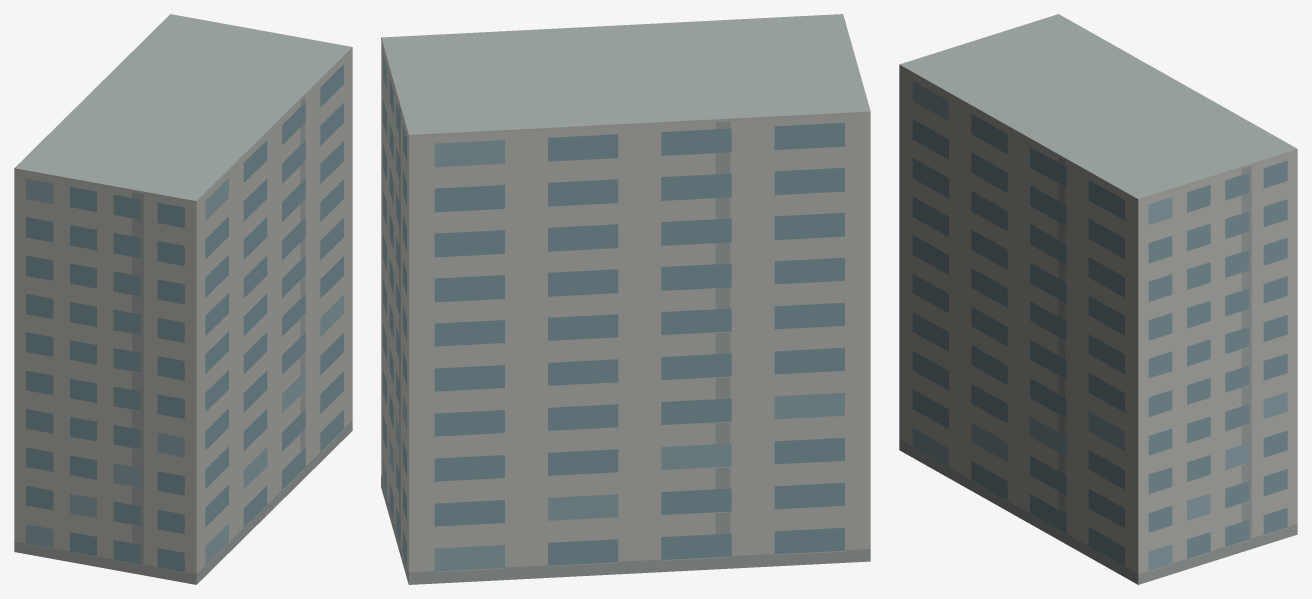
Rendered from residential-5c8b53fb-044e-49c2-8e62-03d933482c68.glb.
3 views of the same model, side by side, from view 1: azimuth 30°, elevation 25°; view 2: azimuth 150°, elevation 25°; view 3: azimuth 270°, elevation 25° (orthographic). The views are drawn at different scales.
Parts seen in each view (by area): view 1: residential-5c8b53fb-044e-49c2-8e62-03d933482c68.tmp; view 2: residential-5c8b53fb-044e-49c2-8e62-03d933482c68.tmp; view 3: residential-5c8b53fb-044e-49c2-8e62-03d933482c68.tmp.
Boxes of the visible parts, x1=… form: residential-5c8b53fb-044e-49c2-8e62-03d933482c68.tmp: x1=14, y1=14, x2=352, y2=584; residential-5c8b53fb-044e-49c2-8e62-03d933482c68.tmp: x1=381, y1=14, x2=870, y2=584; residential-5c8b53fb-044e-49c2-8e62-03d933482c68.tmp: x1=899, y1=14, x2=1297, y2=584.
Bounding box in the file's own units: 41.22 × 40 × 37.47.
